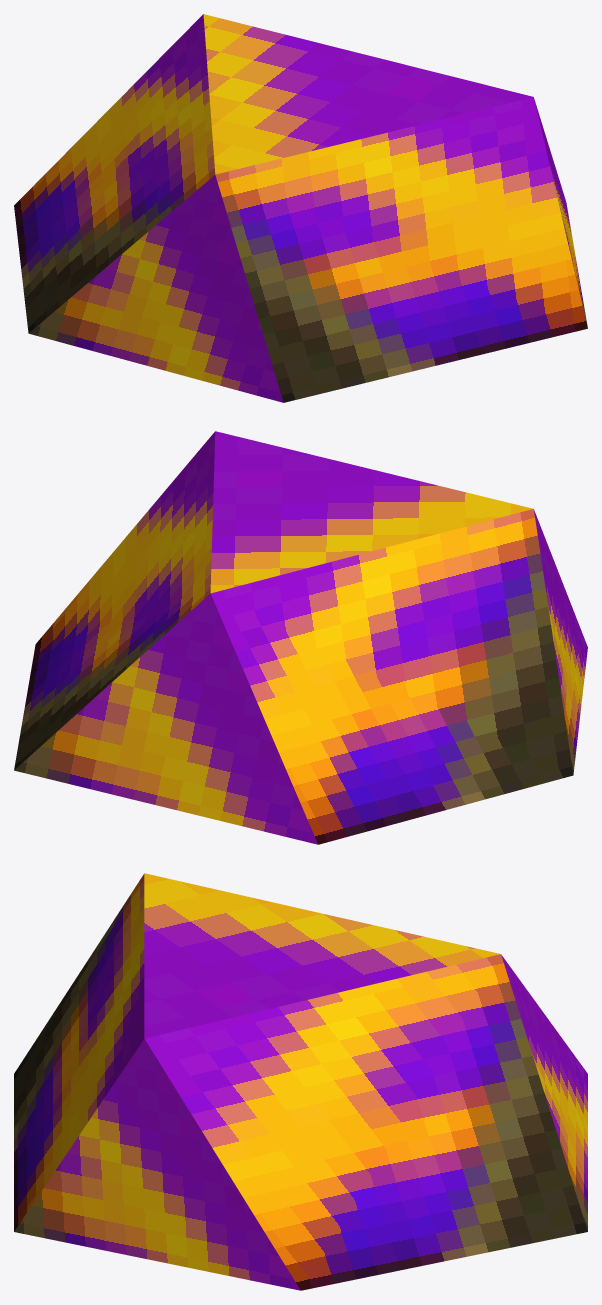
3 renders of one model, top to bottom at view 1: azimuth 30°, elevation 25°; view 2: azimuth 150°, elevation 25°; view 3: azimuth 270°, elevation 25°, orthographic. The views are drawn at different scales.
Visible parts, largest first — view 1: Joke_obj_037; view 2: Joke_obj_037; view 3: Joke_obj_037.
Part boxes in pixels (<box>): Joke_obj_037: <box>14,14,587,402</box>; Joke_obj_037: <box>14,431,587,844</box>; Joke_obj_037: <box>14,873,587,1290</box>.
Bounding box in the file's own units: 0.1484 × 0.0488 × 0.1289.
Materials: 1 (1 with a texture image).
